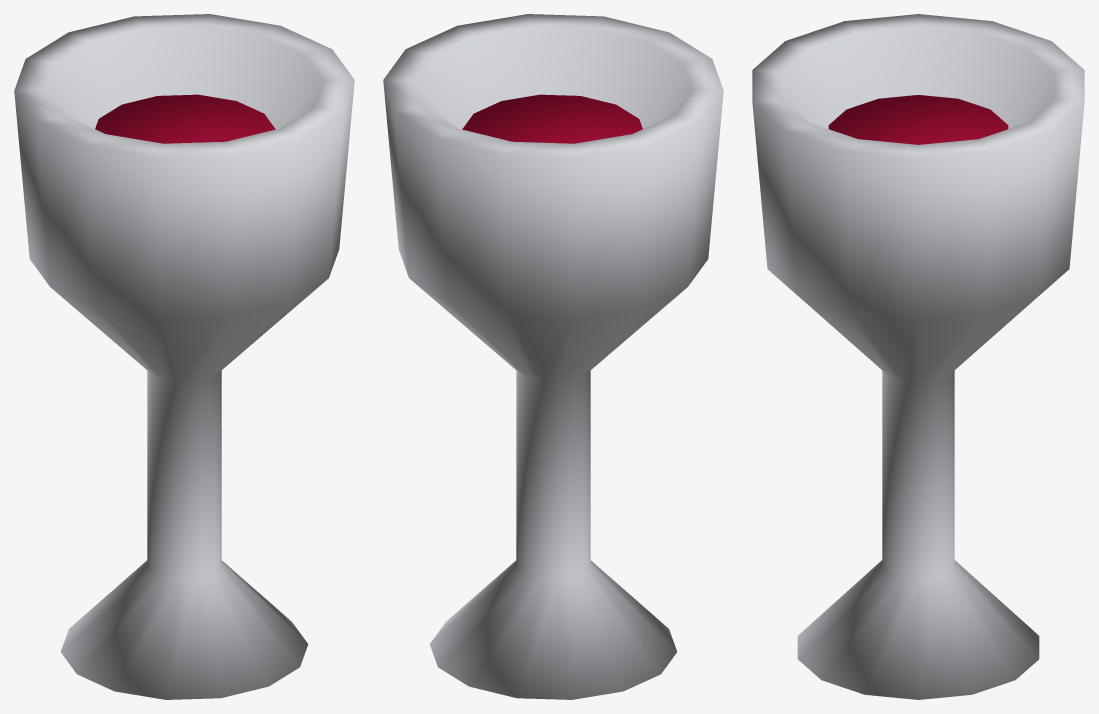
The model's file is chalice_silver.glb.
3 views of the same model, side by side, from view 1: azimuth 30°, elevation 25°; view 2: azimuth 150°, elevation 25°; view 3: azimuth 270°, elevation 25° (orthographic).
Parts seen in each view (by area): view 1: GD_chalice_silver__m0, GD_chalice_silver__m1; view 2: GD_chalice_silver__m0, GD_chalice_silver__m1; view 3: GD_chalice_silver__m0, GD_chalice_silver__m1.
Boxes of the visible parts, x1,y1,x2,y2 form: GD_chalice_silver__m0: [14, 14, 354, 699]; GD_chalice_silver__m1: [95, 94, 275, 143]; GD_chalice_silver__m0: [383, 14, 723, 699]; GD_chalice_silver__m1: [462, 94, 642, 143]; GD_chalice_silver__m0: [752, 14, 1084, 699]; GD_chalice_silver__m1: [828, 95, 1008, 144].
Bounding box in the file's own units: 0.11 × 0.2 × 0.1072.
